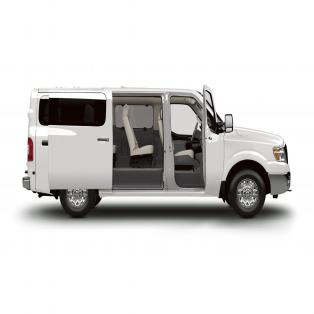Auto: (22, 88, 292, 219)
